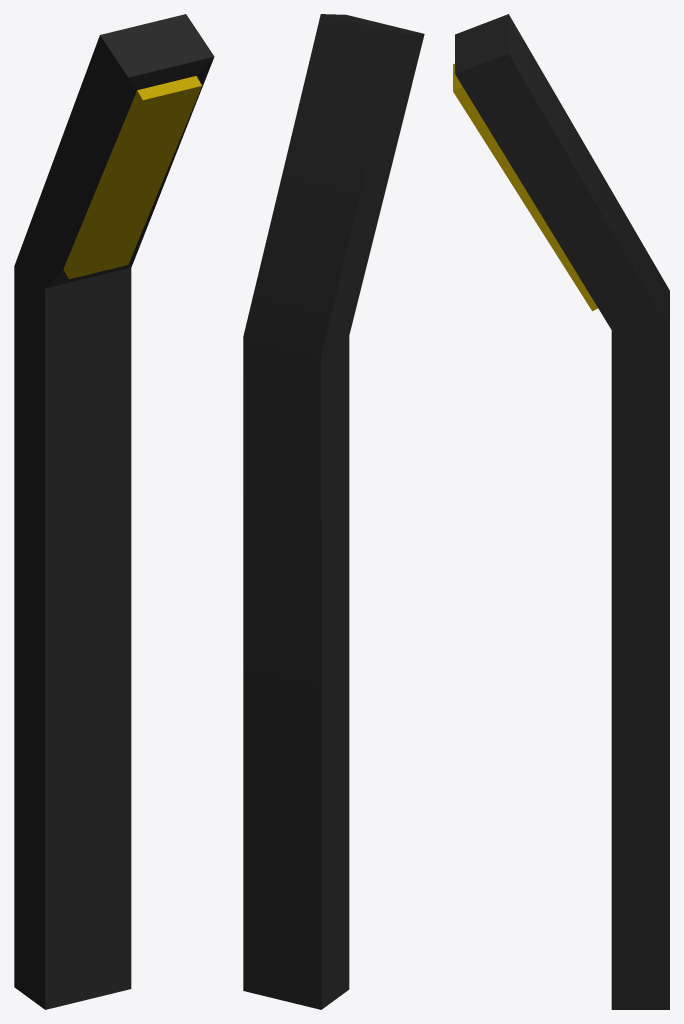
File: Streetlight.dae
The picture shows the model from 3 angles, left to right: view 1: azimuth 30°, elevation 25°; view 2: azimuth 150°, elevation 25°; view 3: azimuth 270°, elevation 25°; orthographic projection. The views are drawn at different scales.
Visible parts, largest first — view 1: pCube1; view 2: pCube1; view 3: pCube1.
Boxes of the visible parts, <box> form: pCube1: <box>14,14,214,1009</box>; pCube1: <box>243,14,424,1009</box>; pCube1: <box>453,14,669,1009</box>.
Bounding box in the file's own units: 0.4434 × 4.99 × 1.03.
